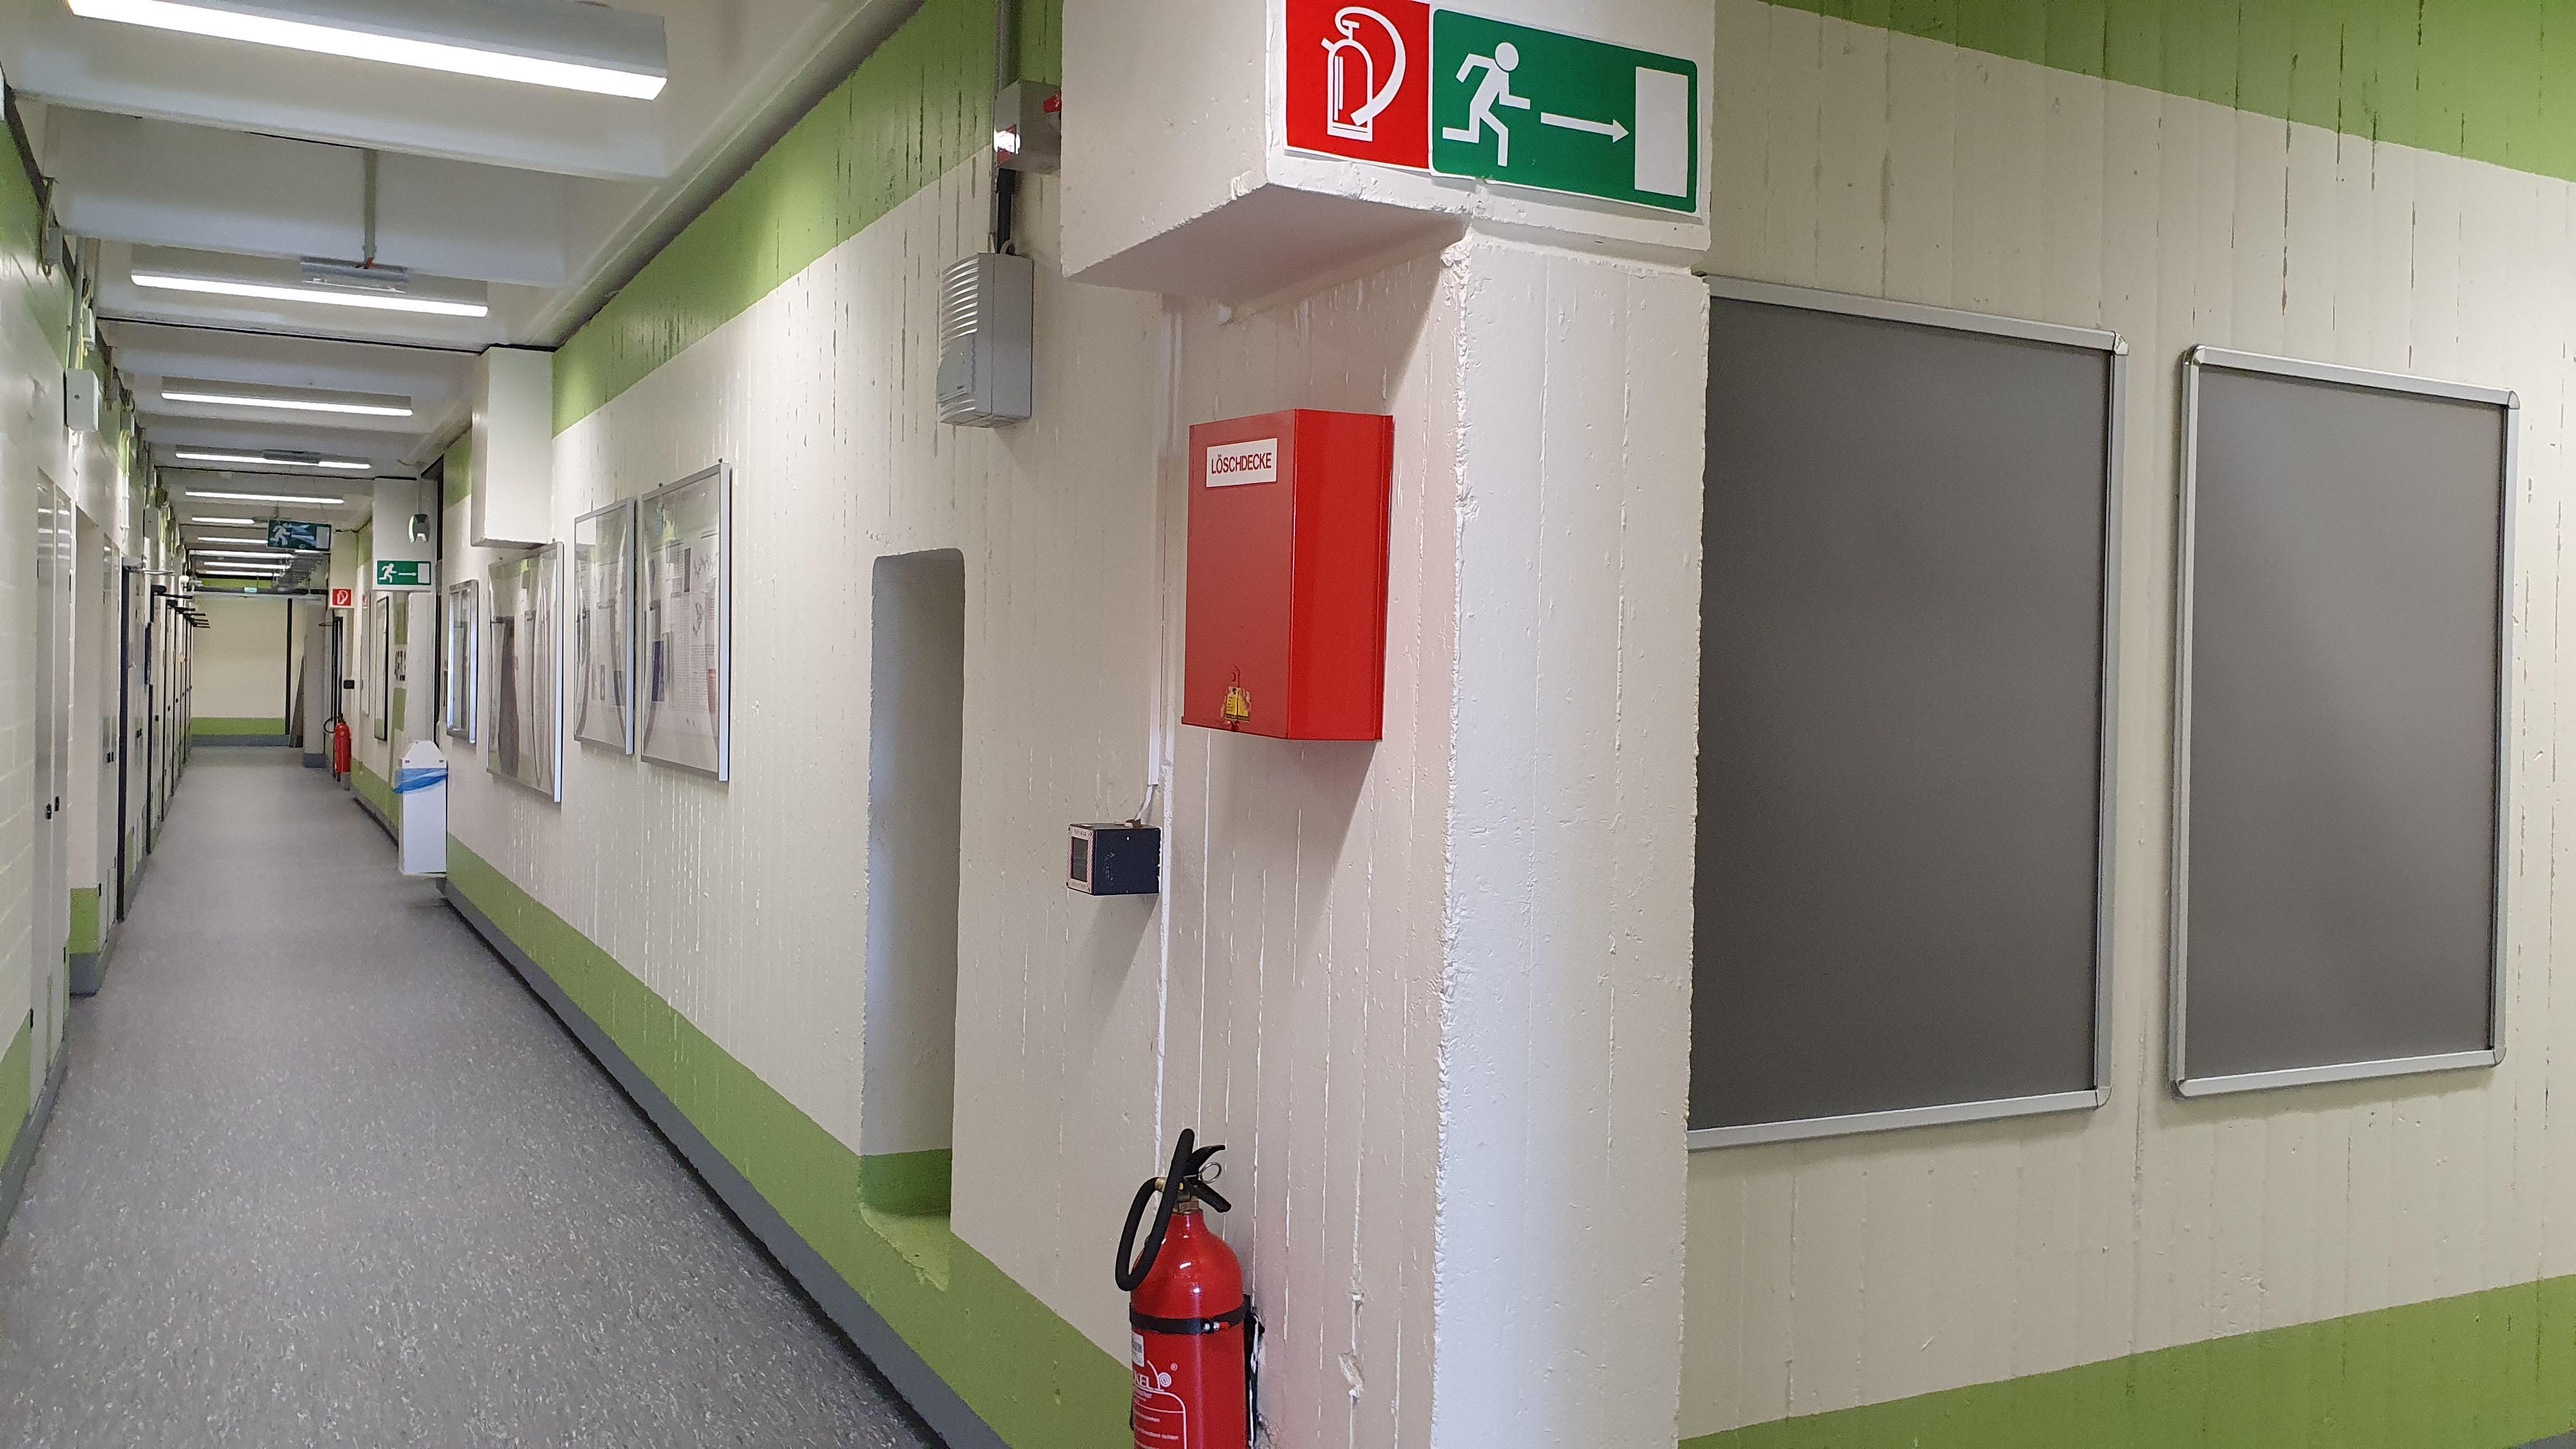extinguisher: (1115, 1129, 1249, 1449), (324, 713, 350, 773)
